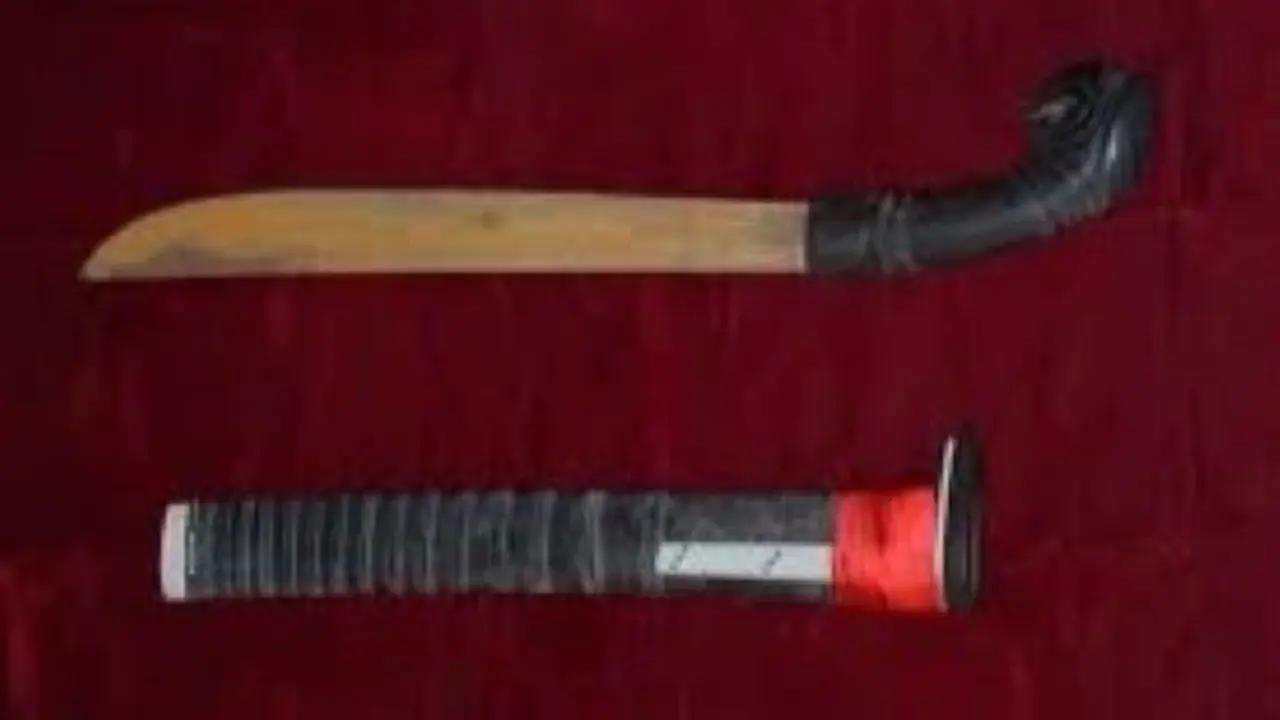facao: (80, 60, 1154, 281)
